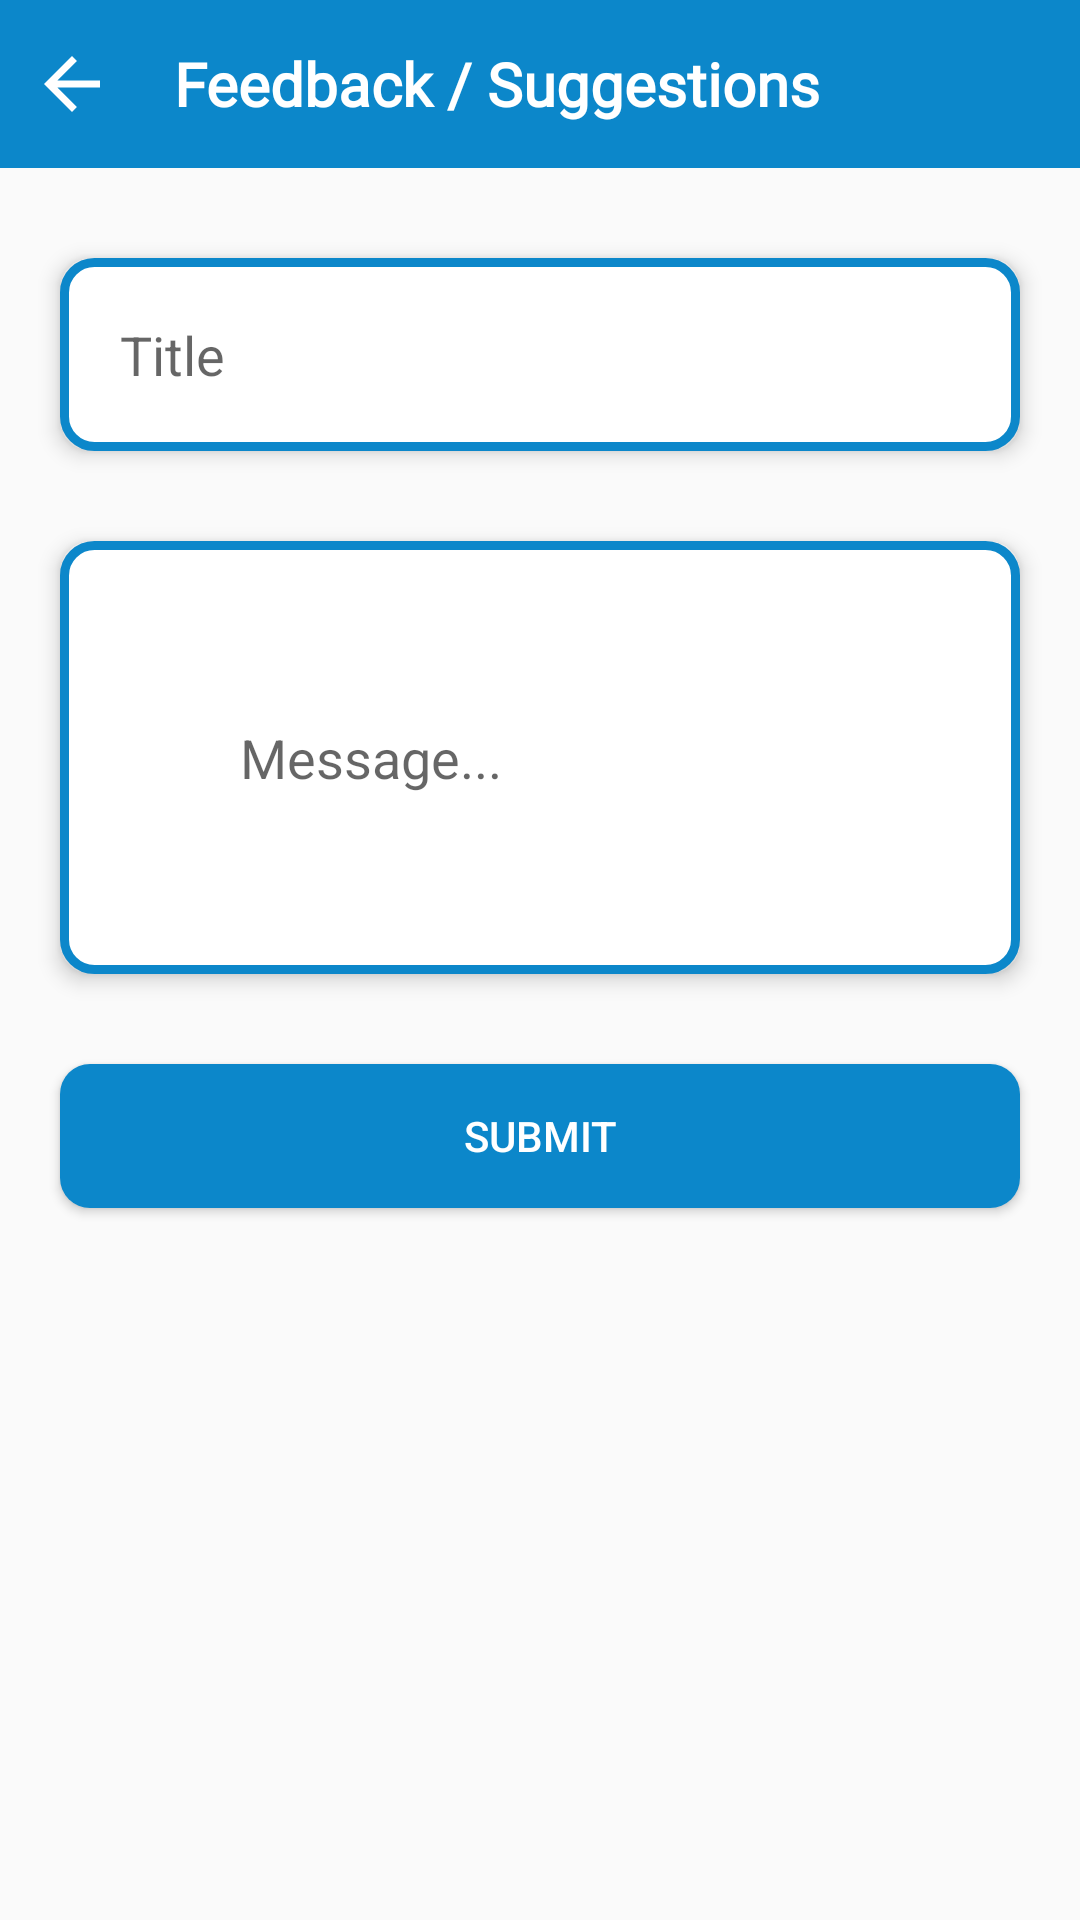

Icons on this 1080px x 1920px Android screen, each with its box as Rect(x1, y1, x2, y2):
arrow back: Rect(44, 56, 100, 112)
